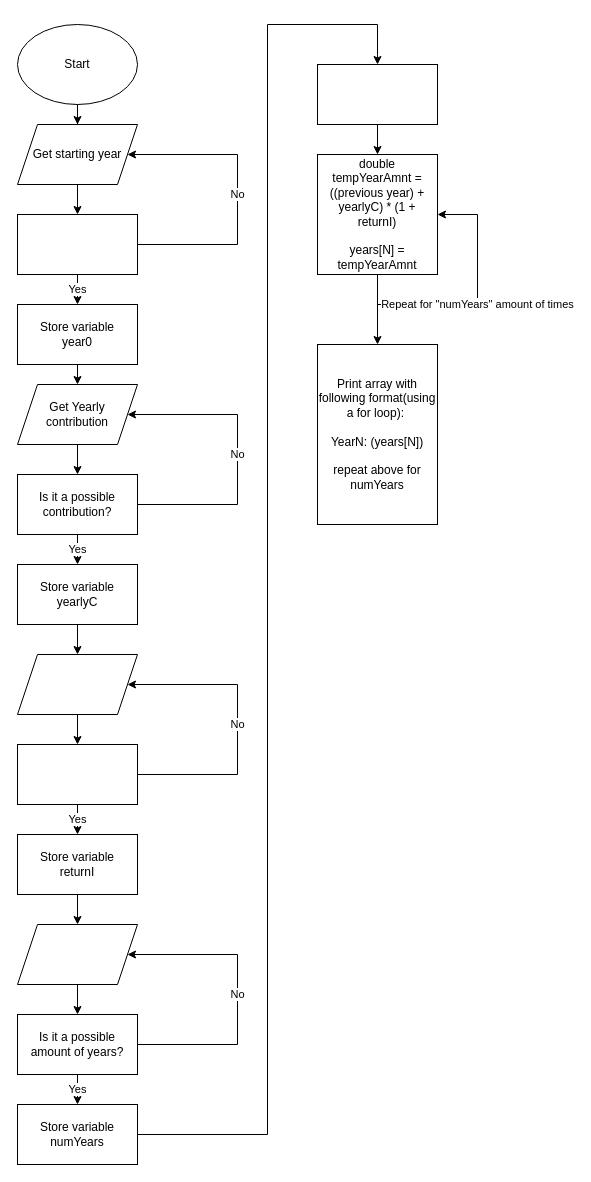
The diagram is 591 pixels wide and 1182 high, and some of its shapes have lost their labels. Each missing label, with the box of its shape:
Create array "years" of length equal to numYears - 1 years[0] = year0: (316, 64, 438, 124)
Get AVG return investment: (16, 654, 138, 714)
Get Number of years to calculate: (16, 924, 138, 984)
Is it a possible RI?: (16, 744, 138, 804)
Is it a possible year?: (16, 214, 138, 274)
